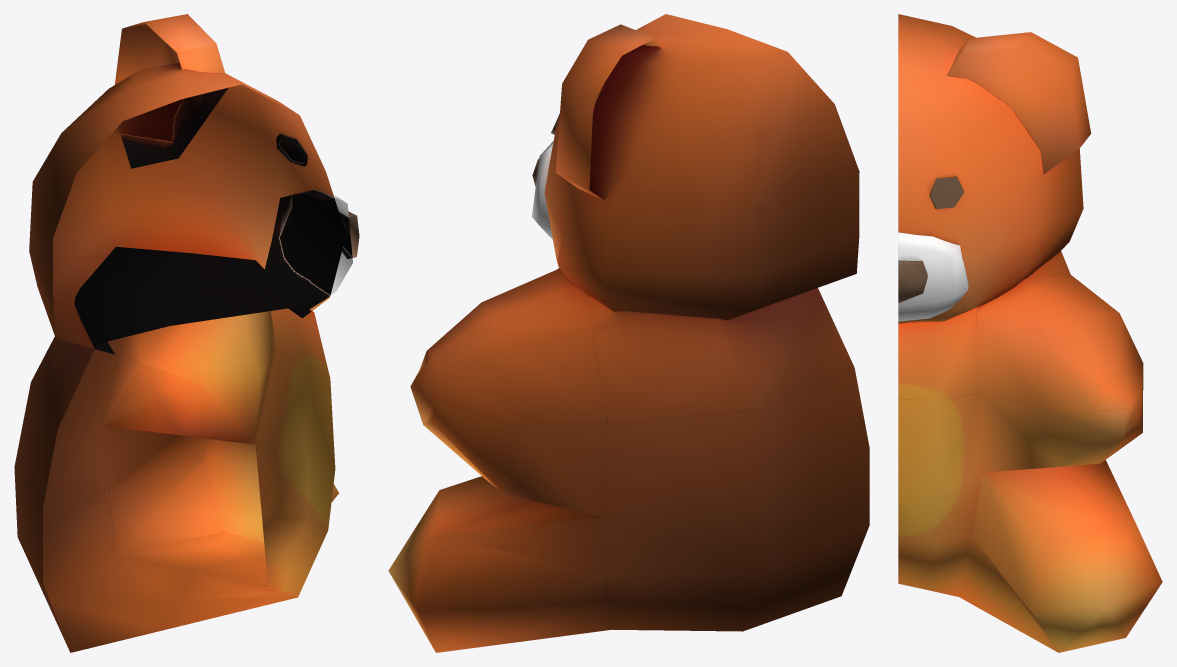
The model's file is Emoji_teddy_bear.glb.
The picture shows the model from 3 angles, left to right: view 1: azimuth 30°, elevation 25°; view 2: azimuth 150°, elevation 25°; view 3: azimuth 270°, elevation 25°; orthographic projection. The views are drawn at different scales.
Visible parts, largest first — view 1: Emoji; view 2: Emoji; view 3: Emoji.
Part boxes in pixels (bbox=[...]): Emoji: bbox=[14, 14, 359, 652]; Emoji: bbox=[388, 14, 869, 652]; Emoji: bbox=[898, 14, 1162, 652].
Bounding box in the file's own units: 0.4067 × 0.6152 × 0.2693.
1 material, 1 textured.
